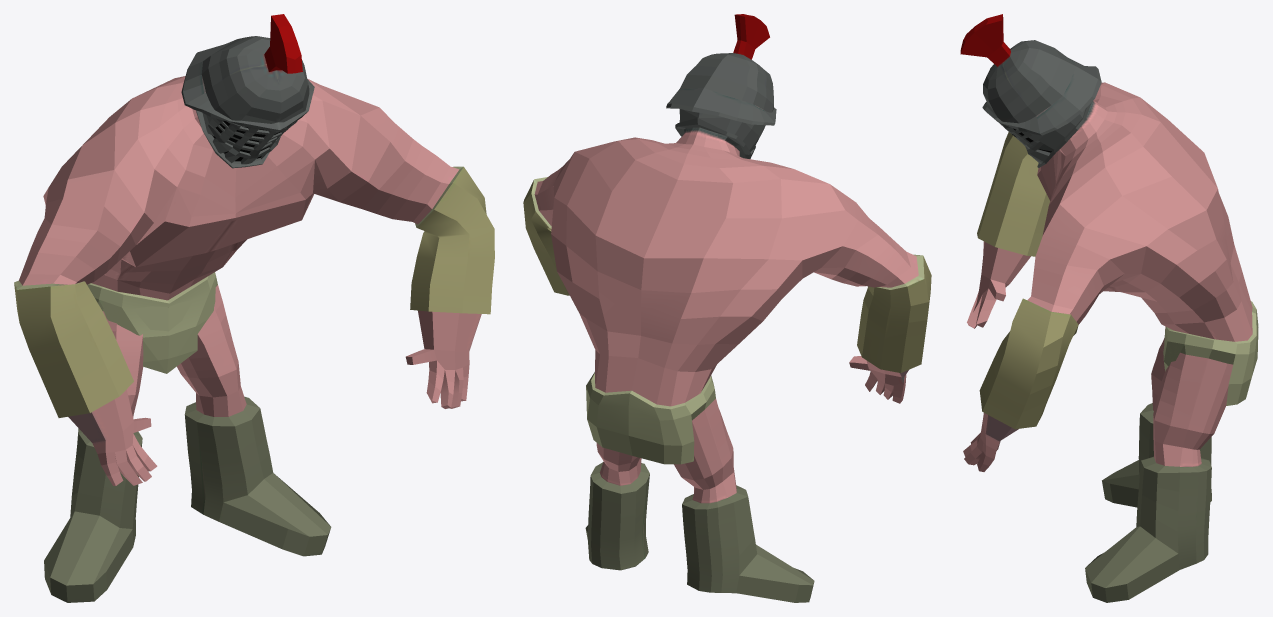
Rendered from GladiatorCelebracion_000505.obj.
The picture shows the model from 3 angles, left to right: view 1: azimuth 30°, elevation 25°; view 2: azimuth 150°, elevation 25°; view 3: azimuth 270°, elevation 25°; orthographic projection. The views are drawn at different scales.
Parts seen in each view (by area): view 1: Gadiador_Gladiador_H; view 2: Gadiador_Gladiador_H; view 3: Gadiador_Gladiador_H.
Part boxes in pixels (bbox=[...]): Gadiador_Gladiador_H: bbox=[14, 14, 494, 602]; Gadiador_Gladiador_H: bbox=[523, 14, 931, 602]; Gadiador_Gladiador_H: bbox=[960, 14, 1258, 602].
Size of the model in its own units: 5.43 by 6.63 by 3.32.
Materials: 1 (1 with a texture image).
